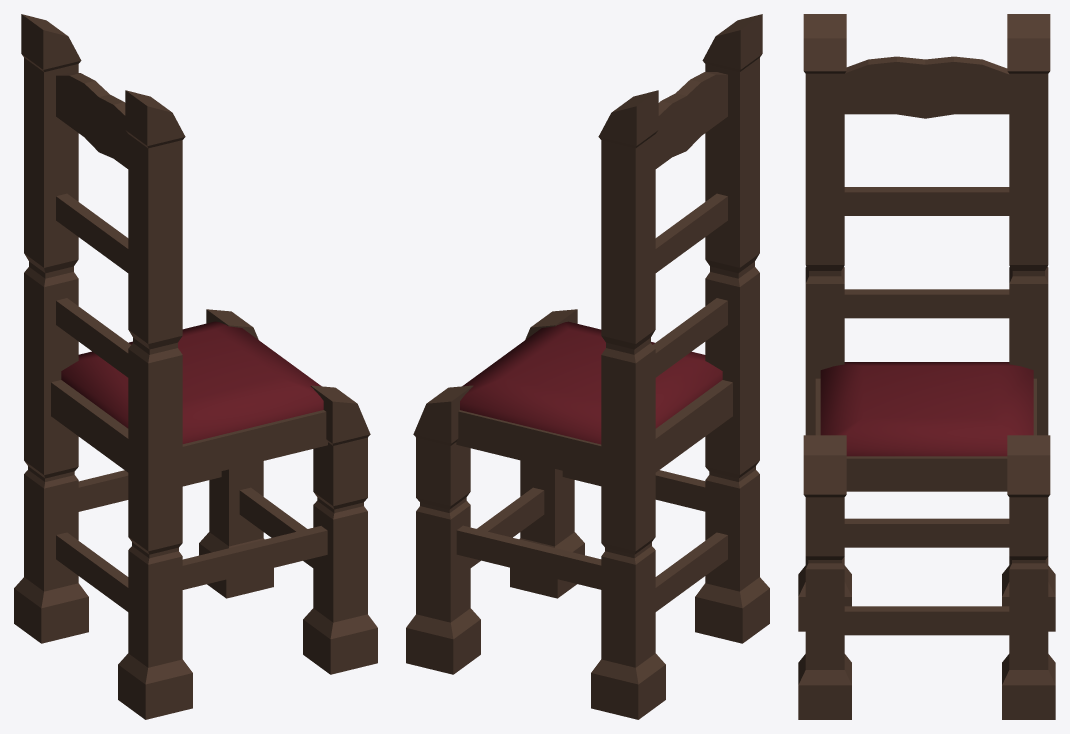
Rendered from S_Chair.fbx.
3 views of the same model, side by side, from view 1: azimuth 30°, elevation 25°; view 2: azimuth 150°, elevation 25°; view 3: azimuth 270°, elevation 25° (orthographic). The views are drawn at different scales.
Visible parts, largest first — view 1: S_Chair; view 2: S_Chair; view 3: S_Chair.
Boxes of the visible parts, box(x1,y1,x2,y2) form: S_Chair: box(14, 14, 377, 719); S_Chair: box(406, 14, 769, 719); S_Chair: box(798, 14, 1055, 719).
Size of the model in its own units: 48.59 by 122 by 47.6.
